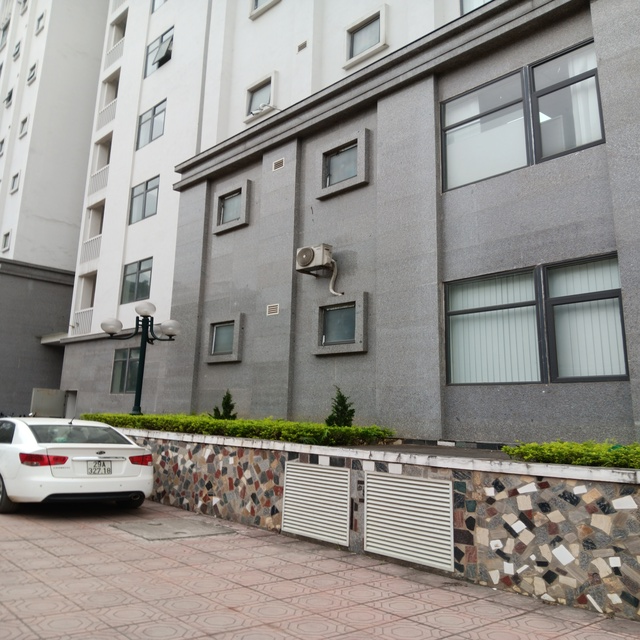cotden: (99, 301, 183, 418)
